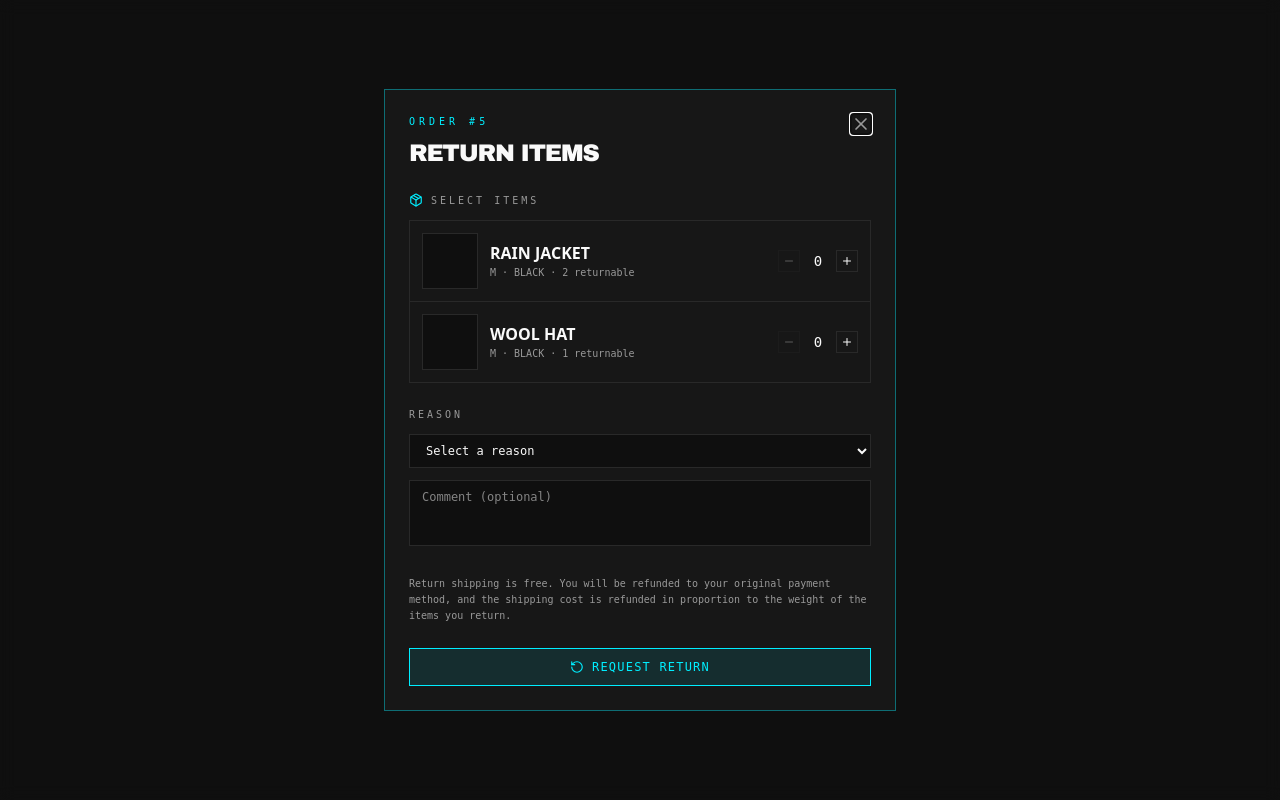
Scenario: ReturnDialog › asks for a comment when the reason is Other
This screenshot has width=1280, height=800.
Click the button named "Increase quantity" in the row of "M · BLACK · 2 returnable" at (847, 261), box [836, 250, 858, 272]
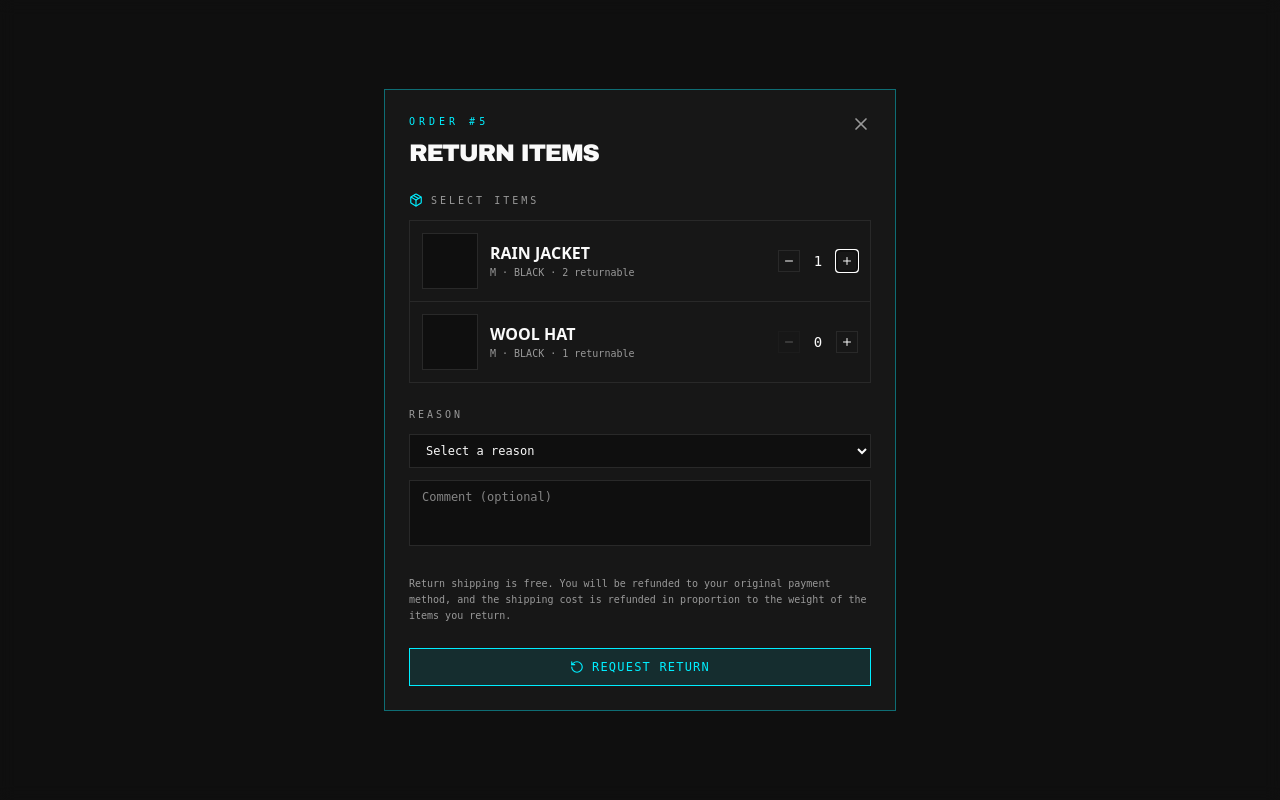
Select "Other" in the dropdown named "Reason" at (640, 451), box [409, 434, 871, 468]
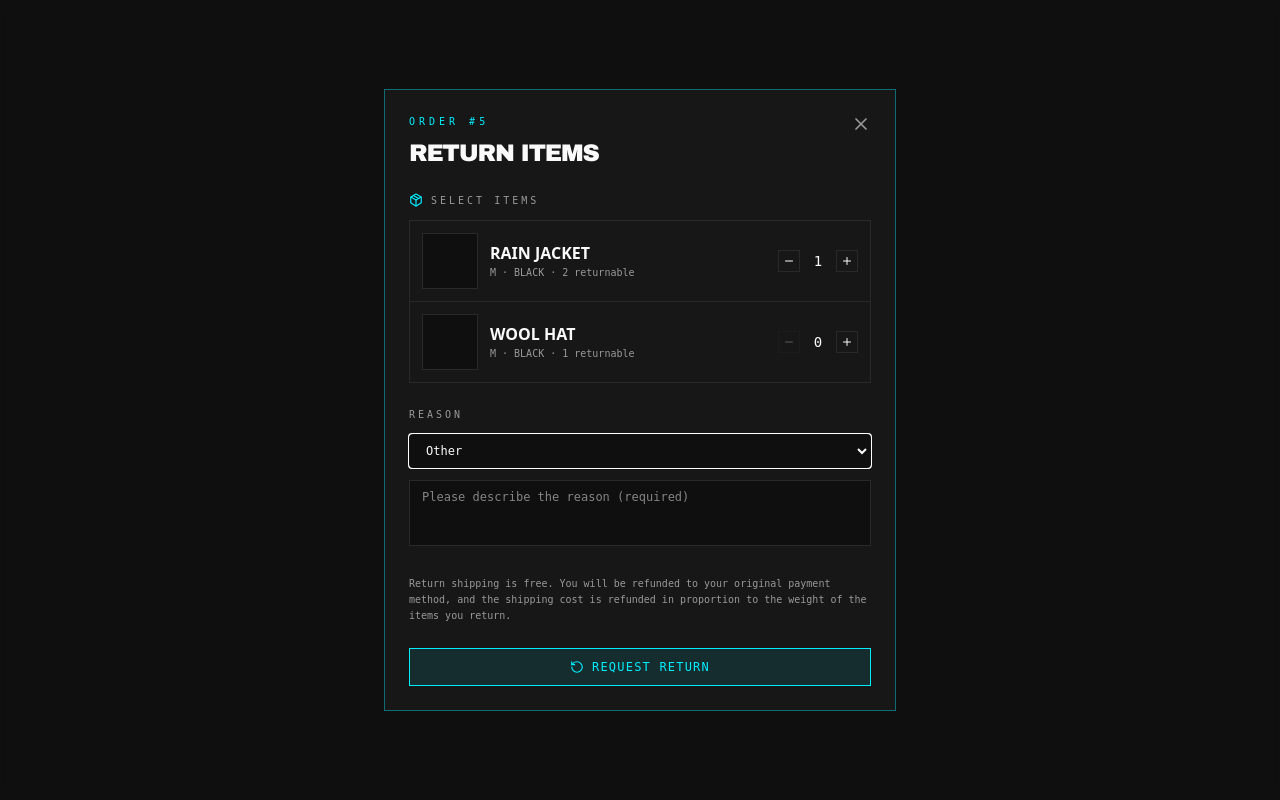
Click the button "Request return" at (640, 667), box [409, 648, 871, 686]
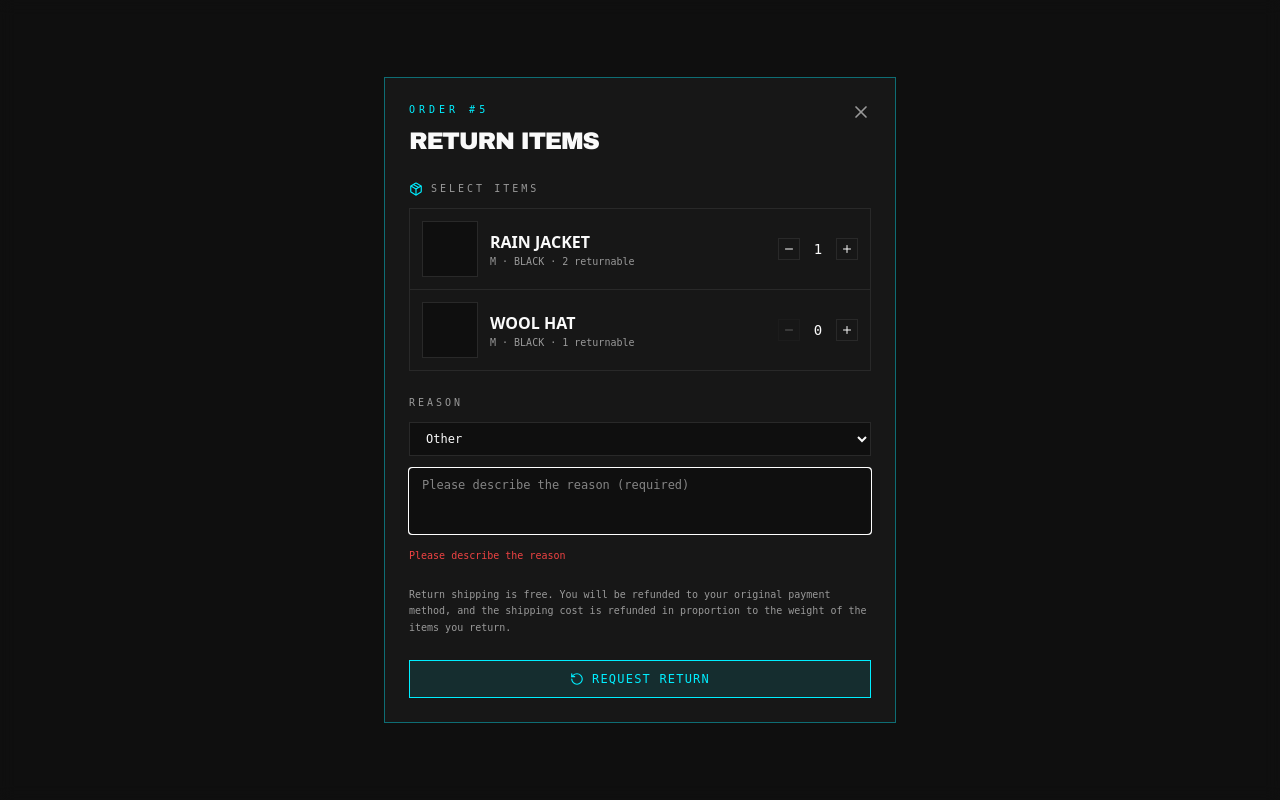
Check: the text "Please describe the reason" is shown, box [409, 550, 566, 561]
